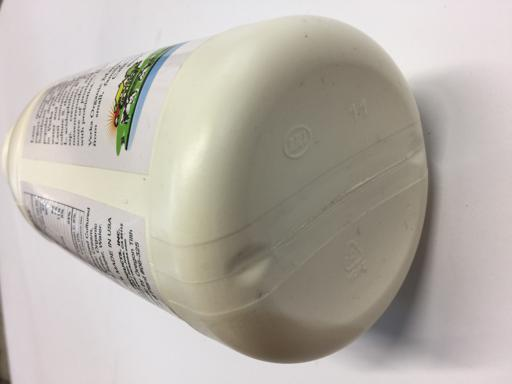bottle: (205, 14, 238, 362)
